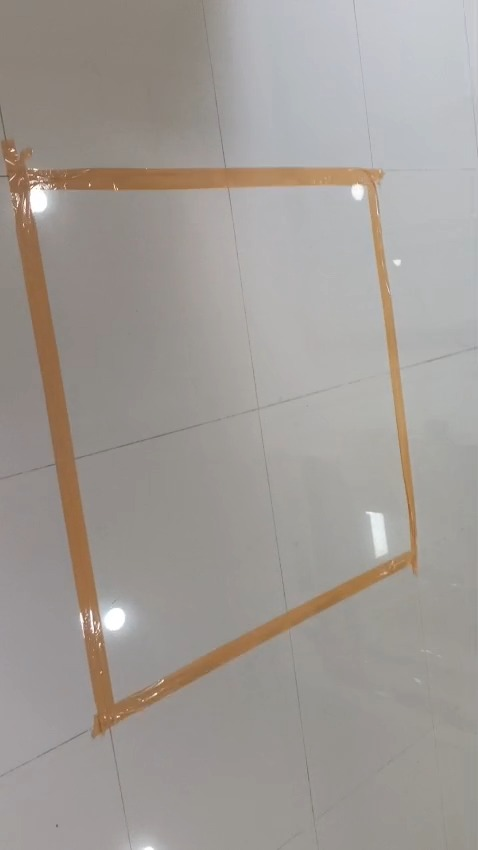floor marking: (2, 140, 415, 735)
